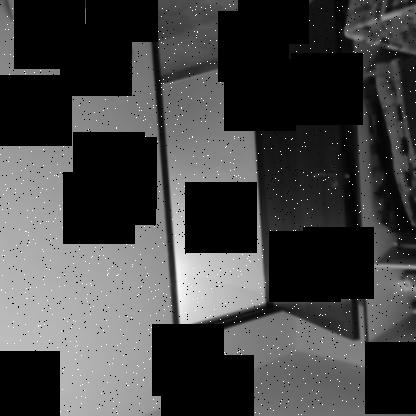Porte: (143, 1, 364, 347)
